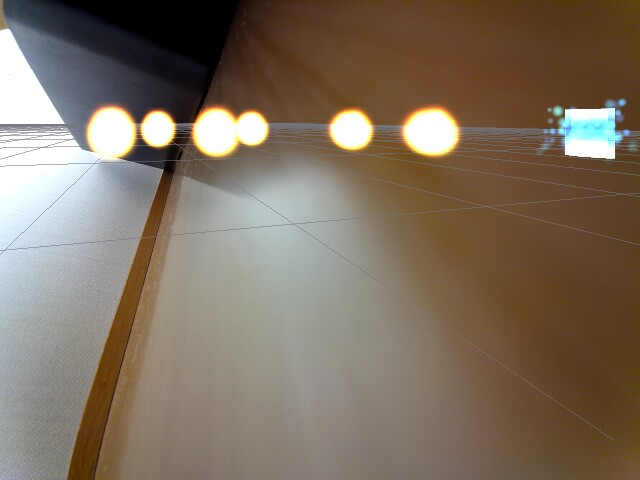firebig: (394, 104, 465, 165)
